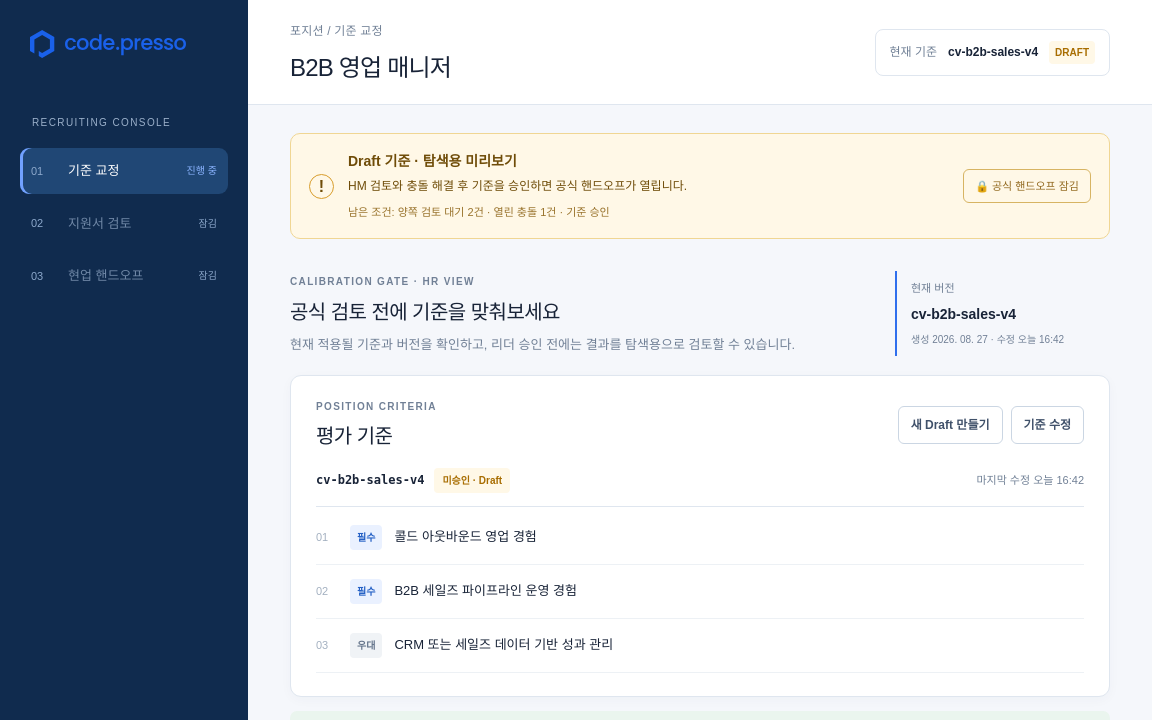
Scenario: calibration page › invalidates the preview mapping after a changed criterion is saved
Click the button "기준 수정" at (1047, 424), box [1010,406,1084,444]
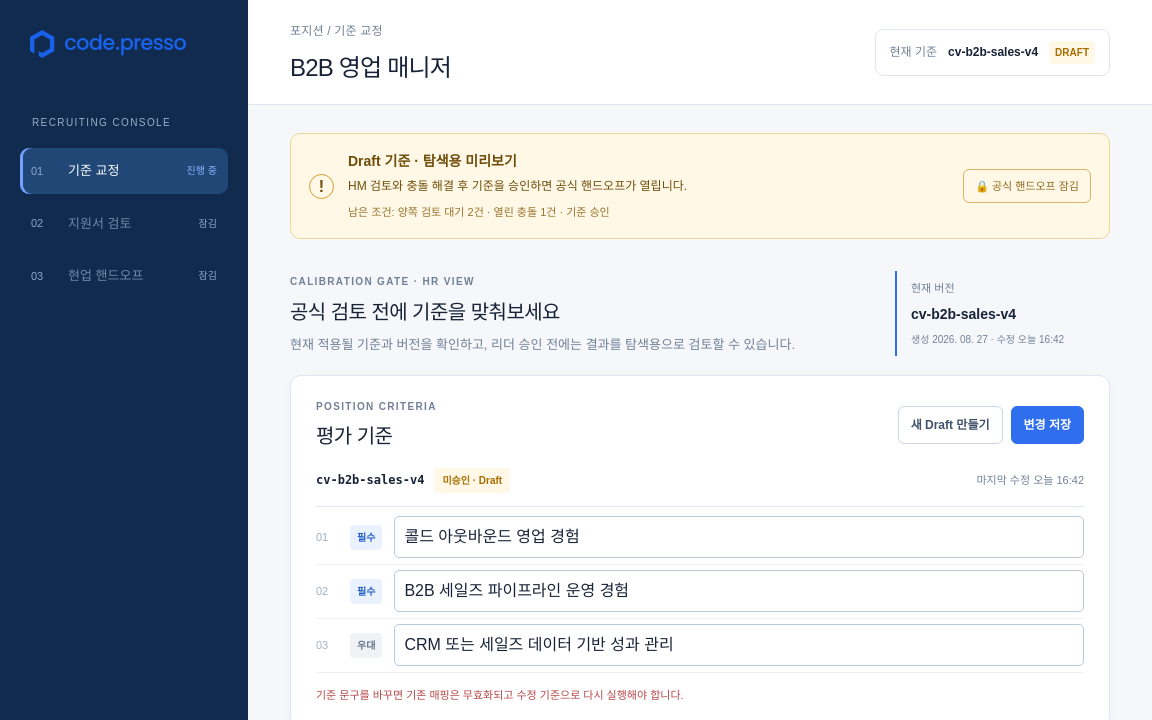
Replace the text in the field named "필수 기준 1" with "새로운 콜드 아웃바운드 경험" at (739, 537), box [394,516,1084,558]
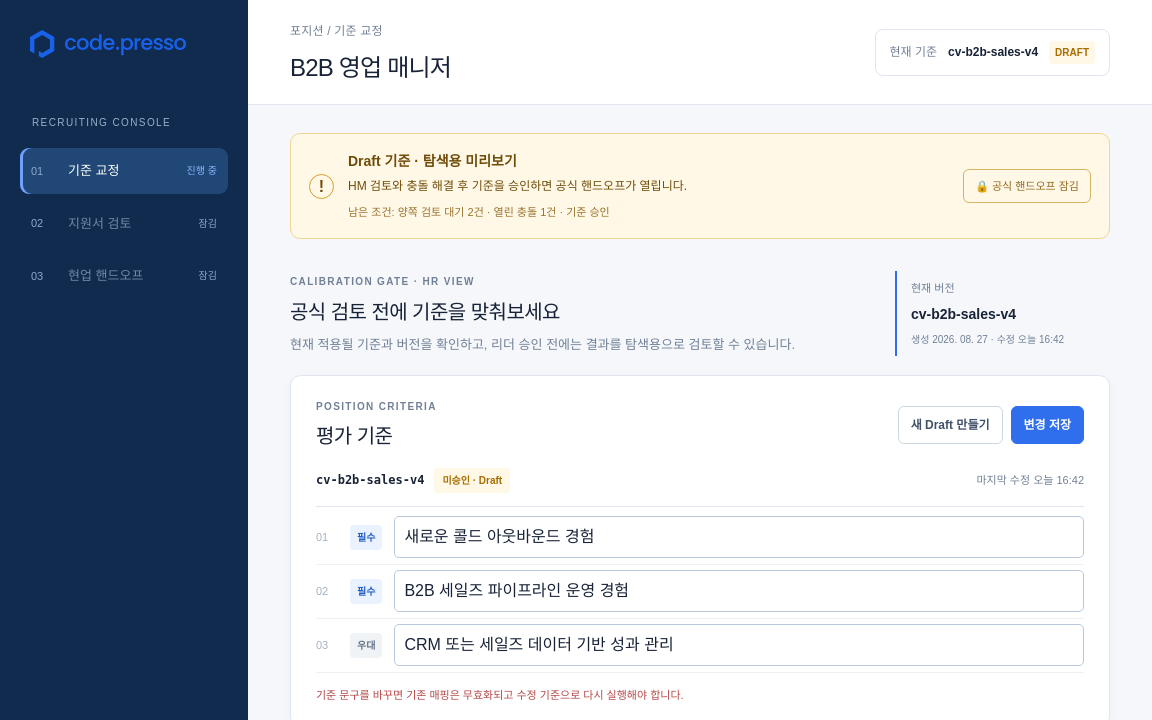
Click the button "변경 저장" at (1047, 424), box [1010,406,1084,444]
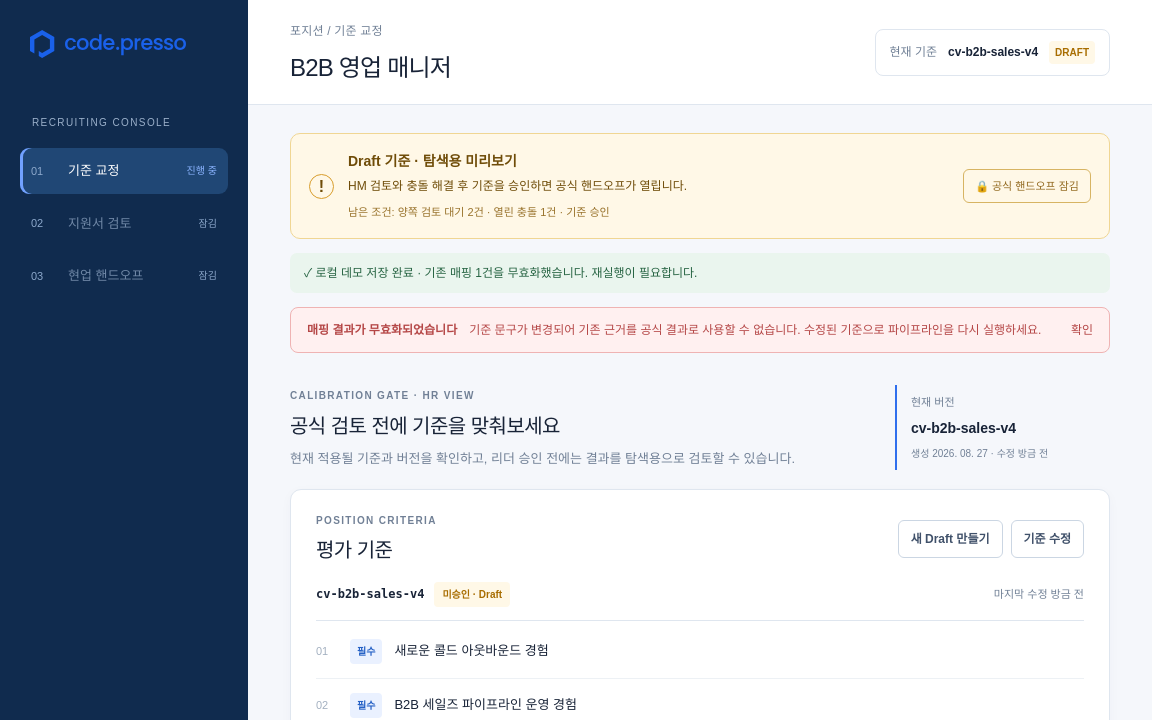
Now the text "매핑 결과가 무효화되었습니다" is shown, box [307,321,457,339]
